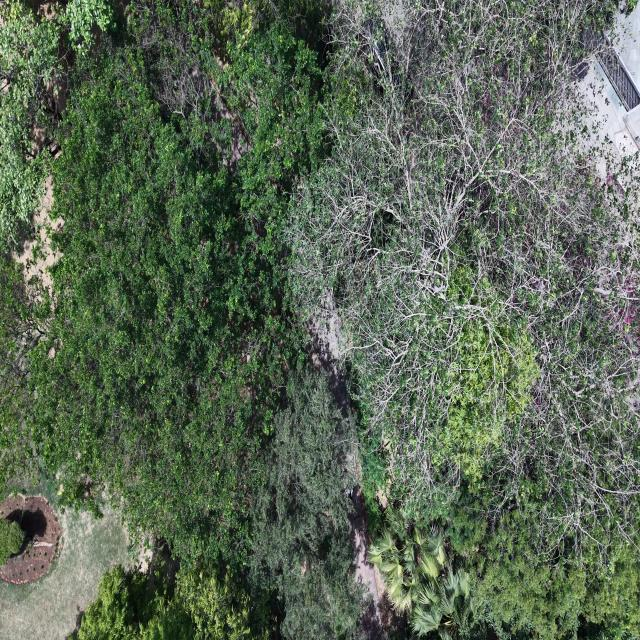DRY_AREA: (0, 484, 133, 639), (0, 484, 132, 639), (0, 494, 61, 584), (349, 484, 384, 639), (14, 177, 62, 290), (349, 486, 383, 639)
VEGETATION_TREE: (0, 0, 639, 639), (287, 2, 639, 637), (288, 3, 638, 555), (30, 27, 315, 561), (30, 51, 290, 557), (78, 367, 362, 639), (249, 367, 362, 639), (0, 0, 113, 252), (0, 2, 63, 252), (76, 563, 268, 639), (369, 507, 476, 639), (0, 257, 48, 483), (77, 566, 194, 639), (176, 563, 273, 639), (0, 518, 24, 565)
